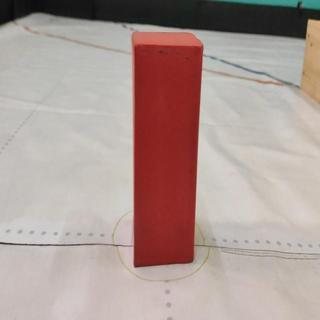redbox: (131, 30, 202, 267)
